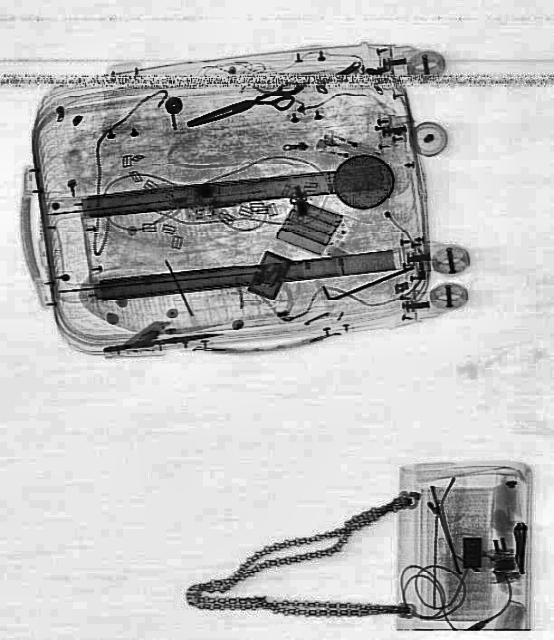Scissors: (184, 76, 304, 138)
